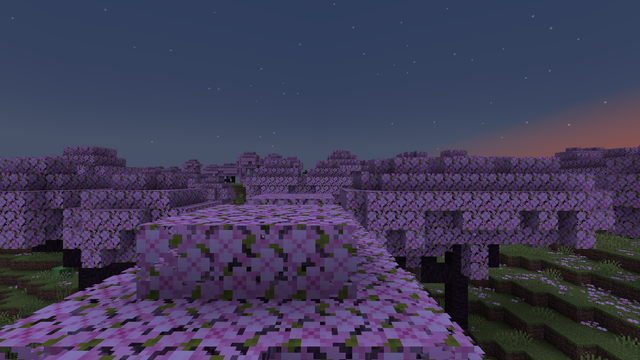slimes: (50, 265, 73, 280)
